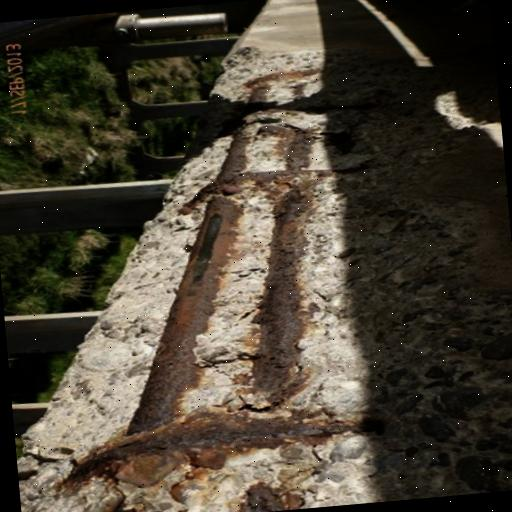spalling: (22, 47, 512, 512)
